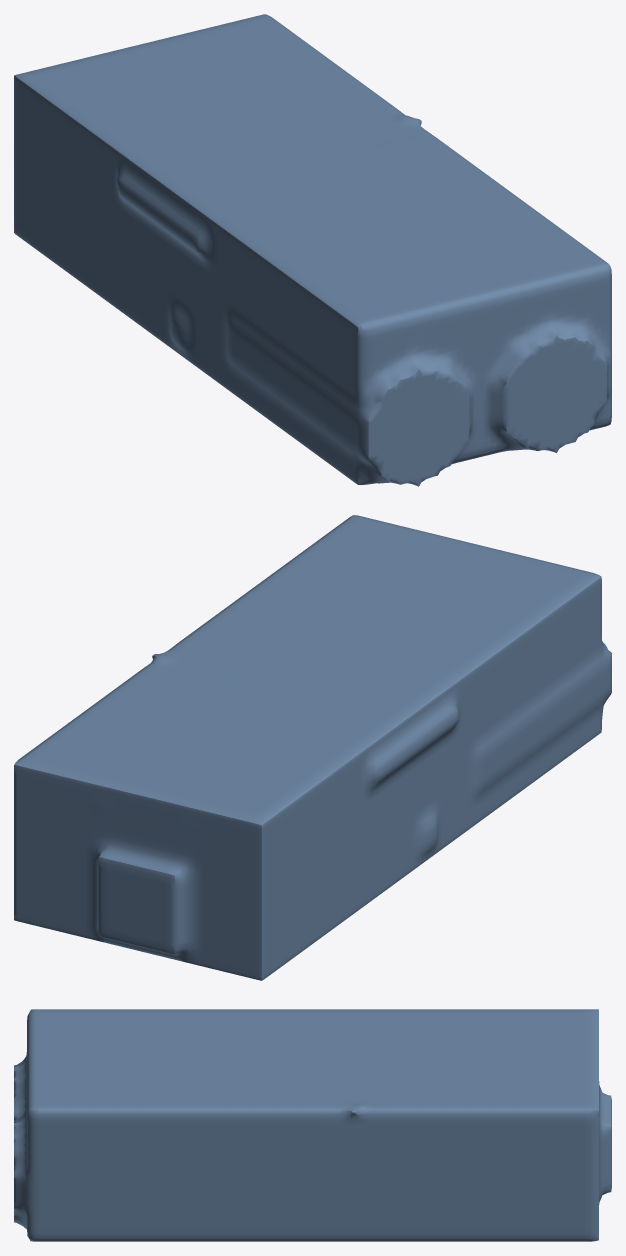
Rendered from staff-gpu-tech-idle.glb.
3 views of the same model, one above another, from view 1: azimuth 30°, elevation 25°; view 2: azimuth 150°, elevation 25°; view 3: azimuth 270°, elevation 25° (orthographic). The views are drawn at different scales.
Parts seen in each view (by area): view 1: Leg_-1; view 2: Leg_-1; view 3: Leg_-1.
Part boxes in pixels (box(x1,y1,x2,y2)): Leg_-1: box(14, 14, 611, 486); Leg_-1: box(14, 515, 611, 980); Leg_-1: box(14, 1009, 611, 1241).
Size of the model in its own units: 0.5104 by 0.3074 by 1.2.
